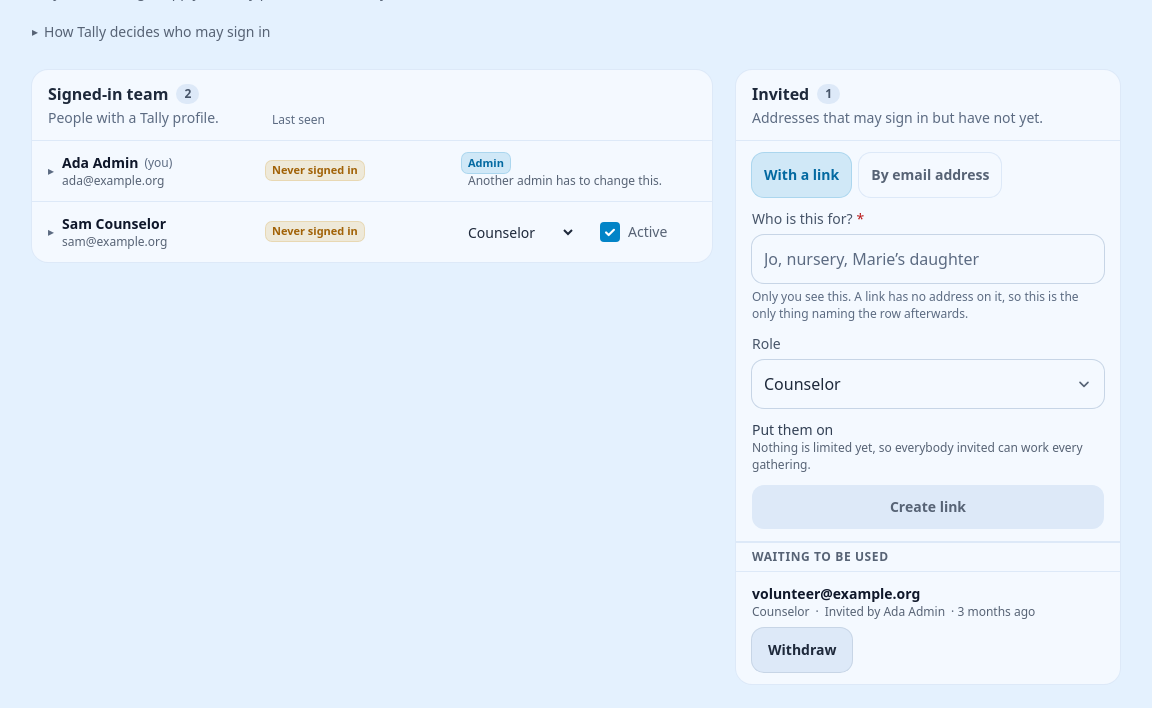
Test: TeamPage — withdrawing an invitation › does not delete on the first press
The width and height of the screenshot is (1152, 708).
(page scrolled)
Click the button "Withdraw" at (802, 650), box top-left (752, 628), bottom-right (852, 672)
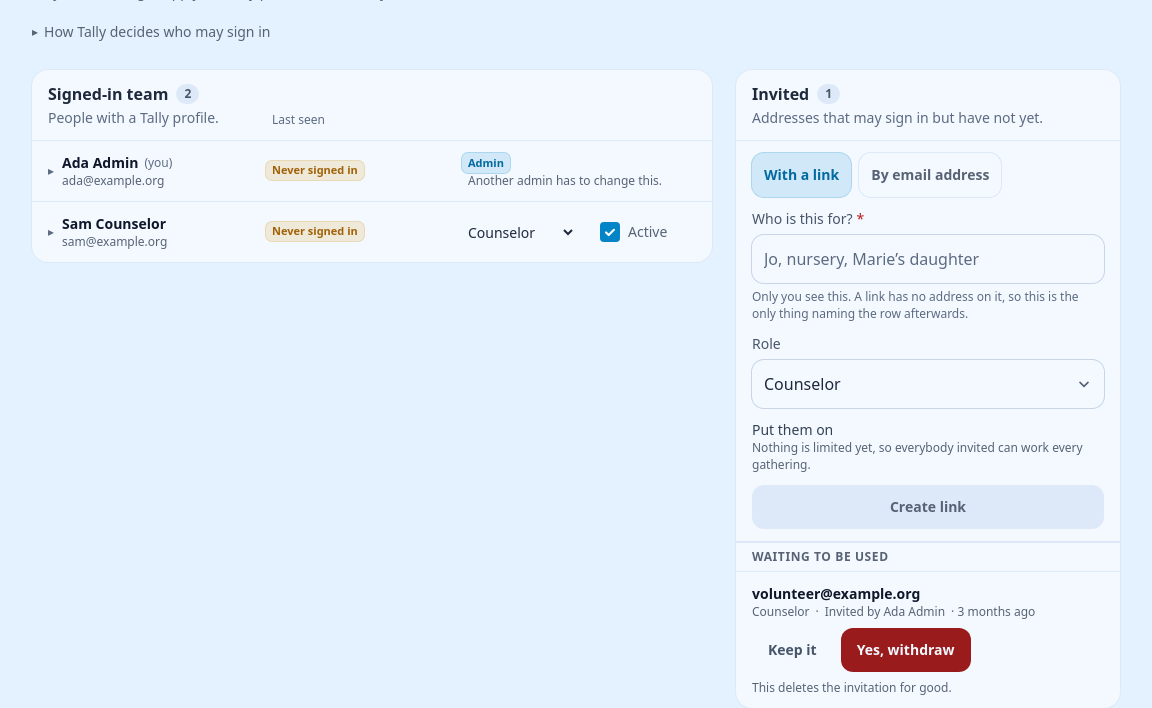
Result: the button "Yes, withdraw" is shown at top-left (841, 628), bottom-right (970, 672)
Result: the button "Keep it" is shown at top-left (752, 628), bottom-right (833, 672)
